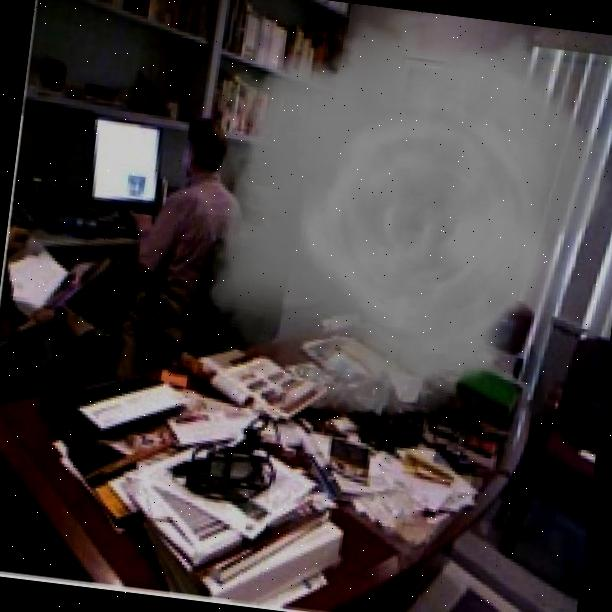smoke: (174, 0, 612, 443)
